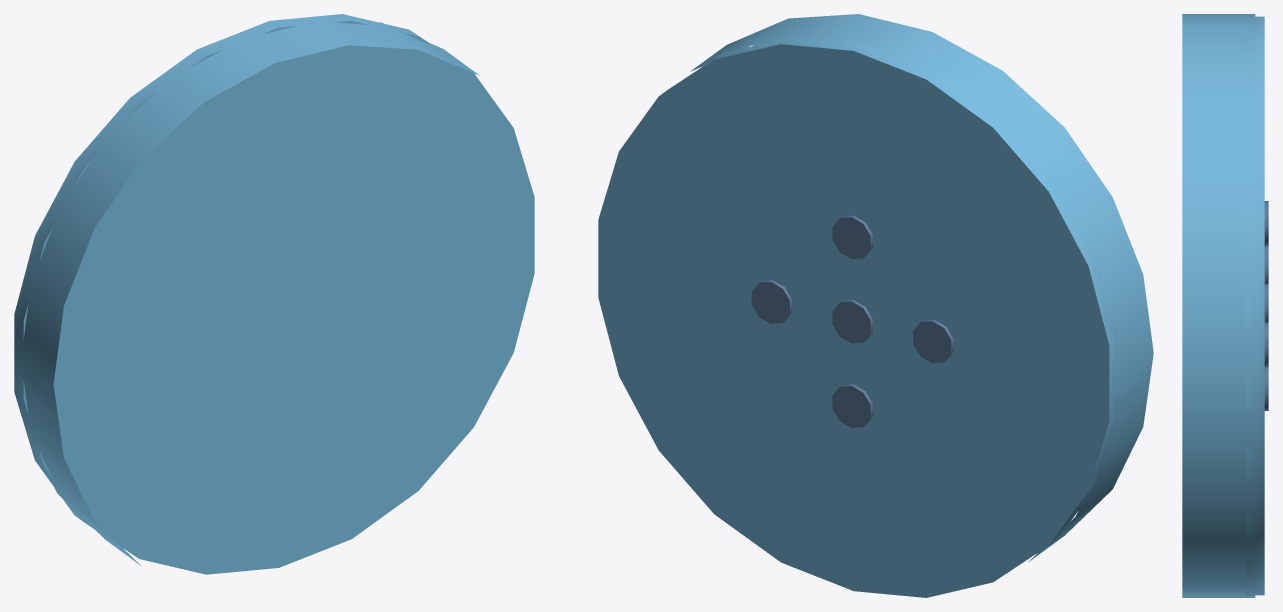
The model's file is tube_endcap.glb.
3 views of the same model, side by side, from view 1: azimuth 30°, elevation 25°; view 2: azimuth 150°, elevation 25°; view 3: azimuth 270°, elevation 25° (orthographic). The views are drawn at different scales.
Visible parts, largest first — view 1: endcap; view 2: endcap, air_holes; view 3: endcap, air_holes.
Part boxes in pixels (x1=…): endcap: x1=14, y1=14, x2=534, y2=574; endcap: x1=598, y1=14, x2=1153, y2=597; air_holes: x1=751, y1=215, x2=953, y2=427; endcap: x1=1182, y1=14, x2=1264, y2=597; air_holes: x1=1264, y1=201, x2=1268, y2=410.
Size of the model in its own units: 0.64 by 0.64 by 0.0945.
